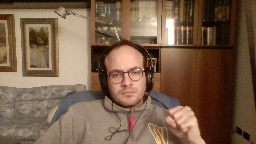Pugno: (164, 103, 203, 142)
